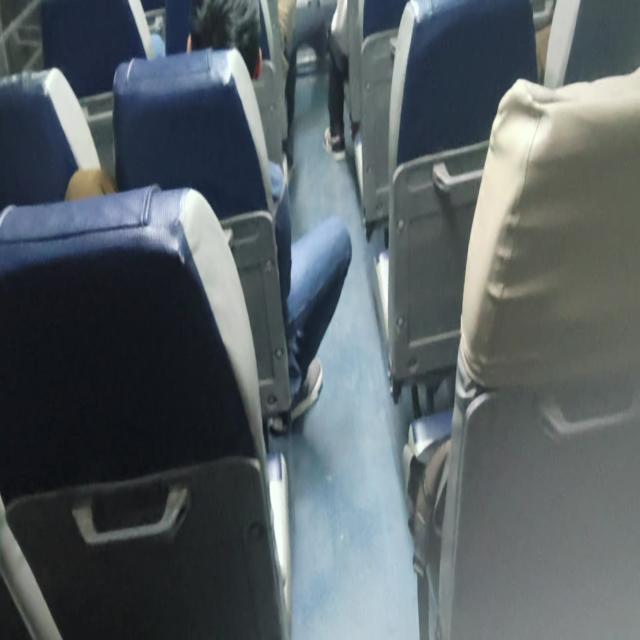person: (174, 0, 262, 96)
